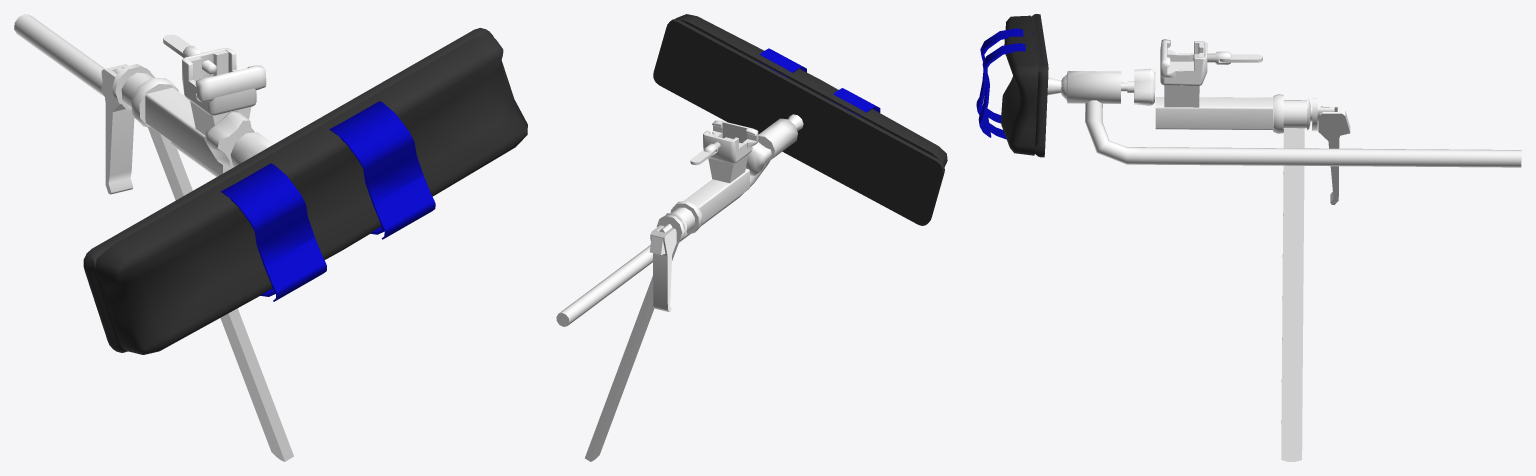
The model's file is armsupport-1001.obj.
3 views of the same model, side by side, from view 1: azimuth 30°, elevation 25°; view 2: azimuth 150°, elevation 25°; view 3: azimuth 270°, elevation 25° (orthographic). The views are drawn at different scales.
Parts seen in each view (by area): view 1: object_7, object_5, object_1, object_2, object_8, object_3, object_4; view 2: object_8, object_1, object_7, object_2, object_3, object_5, object_4; view 3: object_3, object_1, object_2, object_7, object_5, object_8, object_4.
Part boxes in pixels (x1=…): object_7: x1=95, y1=33, x2=527, y2=354; object_5: x1=220, y1=101, x2=435, y2=301; object_1: x1=101, y1=34, x2=266, y2=194; object_2: x1=118, y1=69, x2=293, y2=461; object_8: x1=83, y1=28, x2=513, y2=352; object_3: x1=14, y1=14, x2=273, y2=176; object_4: x1=204, y1=111, x2=254, y2=169; object_8: x1=653, y1=19, x2=944, y2=225; object_1: x1=649, y1=120, x2=758, y2=312; object_7: x1=675, y1=14, x2=947, y2=166; object_2: x1=585, y1=201, x2=702, y2=461; object_3: x1=556, y1=118, x2=797, y2=326; object_5: x1=755, y1=48, x2=880, y2=117; object_4: x1=746, y1=142, x2=771, y2=175; object_3: x1=1066, y1=71, x2=1521, y2=167; object_1: x1=1155, y1=39, x2=1350, y2=204; object_2: x1=1273, y1=94, x2=1310, y2=461; object_7: x1=1001, y1=15, x2=1038, y2=155; object_5: x1=976, y1=28, x2=1036, y2=139; object_8: x1=1031, y1=14, x2=1048, y2=157; object_4: x1=1134, y1=68, x2=1155, y2=105.
Size of the model in its own units: 454 by 537 by 649.
